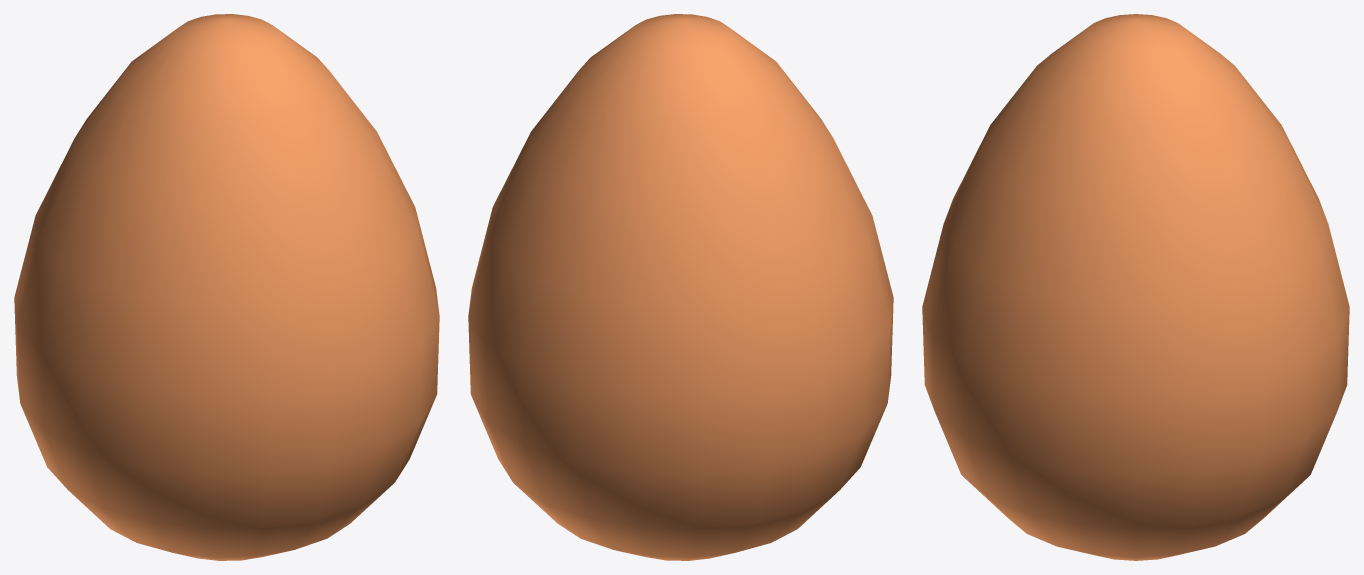
File: Egg.fbx
3 views of the same model, side by side, from view 1: azimuth 30°, elevation 25°; view 2: azimuth 150°, elevation 25°; view 3: azimuth 270°, elevation 25° (orthographic).
Visible parts, largest first — view 1: Egg; view 2: Egg; view 3: Egg.
Part boxes in pixels (x1,y1,x2,y2): Egg: [14, 14, 439, 560]; Egg: [468, 14, 893, 560]; Egg: [922, 14, 1349, 560].
Bounding box in the file's own units: 1.22 × 1.64 × 1.22.
